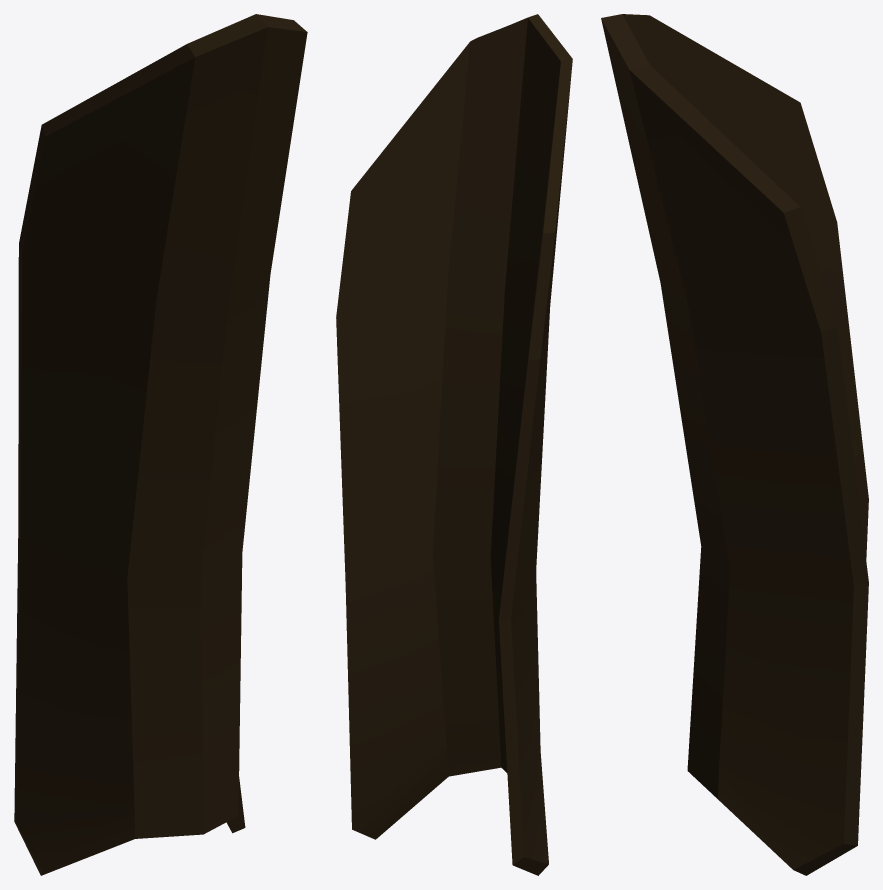
The model's file is Leg_1_R.fbx.
The picture shows the model from 3 angles, left to right: view 1: azimuth 30°, elevation 25°; view 2: azimuth 150°, elevation 25°; view 3: azimuth 270°, elevation 25°; orthographic projection. The views are drawn at different scales.
Parts seen in each view (by area): view 1: Leg_1_R; view 2: Leg_1_R; view 3: Leg_1_R.
Part boxes in pixels (box(x1,y1,x2,y2)): Leg_1_R: box(14, 14, 307, 875); Leg_1_R: box(336, 14, 572, 875); Leg_1_R: box(601, 14, 868, 875).
Size of the model in its own units: 14.06 by 51.26 by 15.04.
